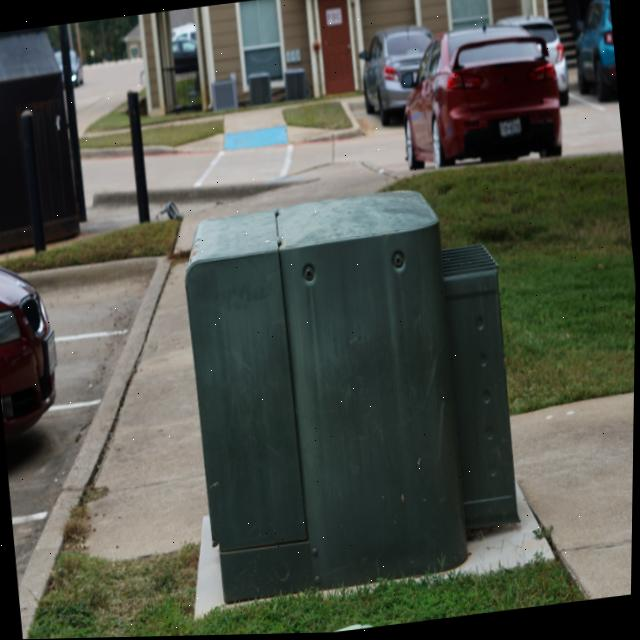Automobile: (404, 29, 562, 170), (0, 267, 58, 441), (364, 26, 433, 127), (495, 17, 569, 107), (578, 0, 618, 104)
Obstacle: (186, 192, 555, 612)
Sidewalk: (87, 263, 209, 560), (512, 395, 635, 601), (175, 163, 391, 252), (177, 108, 339, 152)
